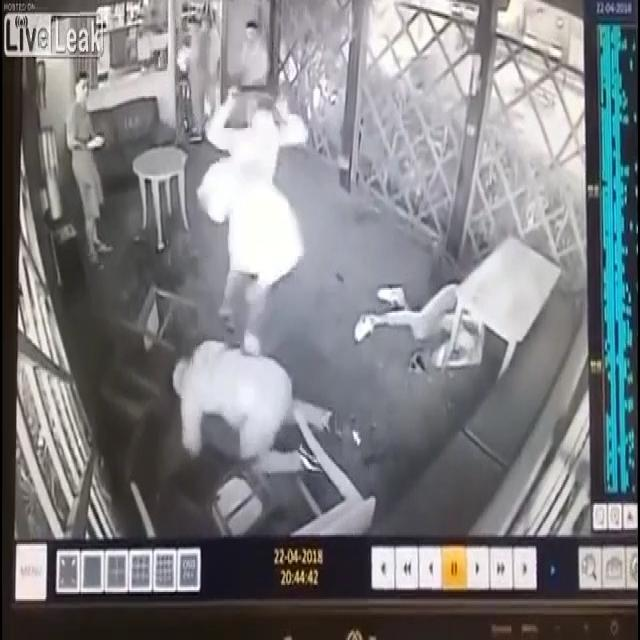fight: (174, 154, 340, 469), (199, 86, 313, 360), (356, 274, 484, 370)
